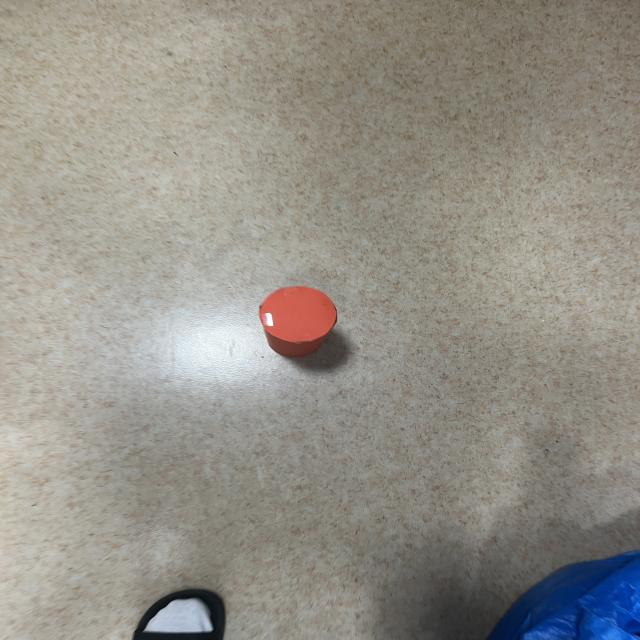przeszkoda: (259, 287, 337, 357)
